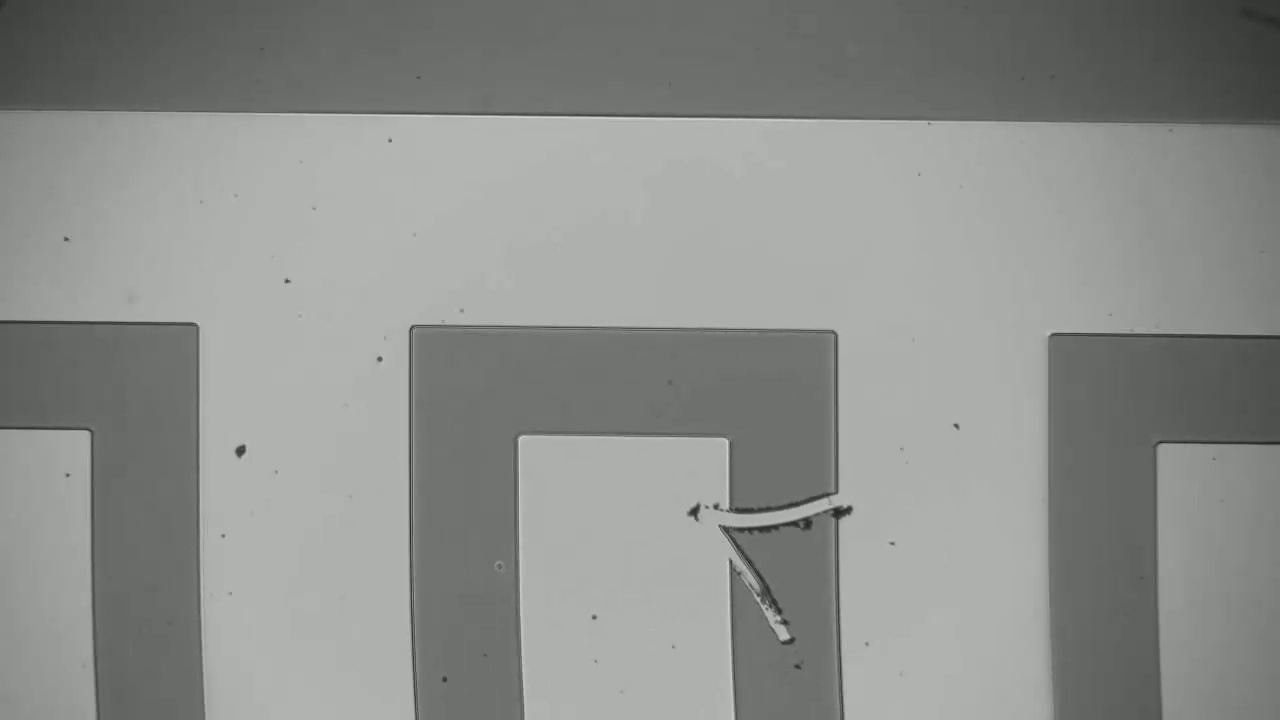Short_circuit: (684, 463, 870, 552)
